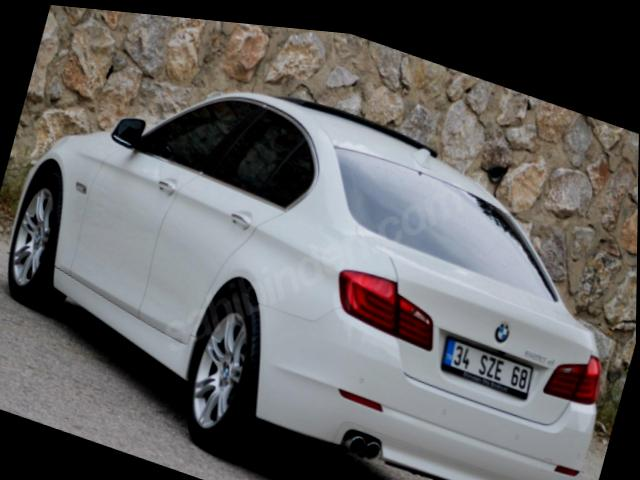plaka: (441, 336, 533, 400)
